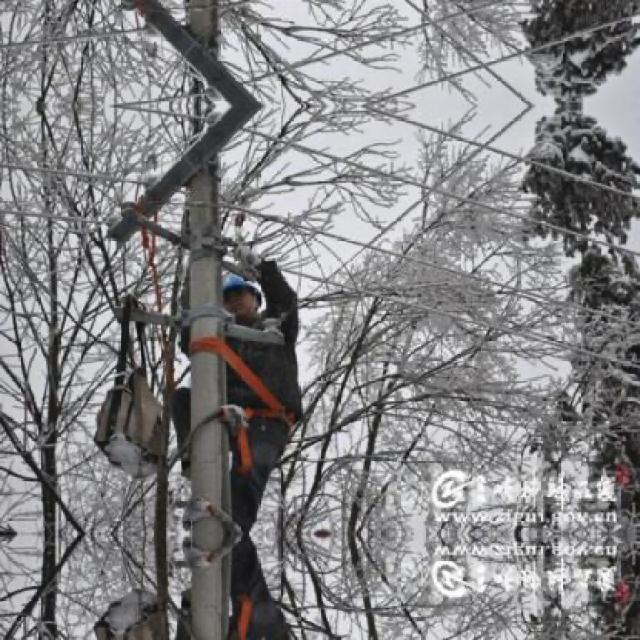helmet: (219, 271, 263, 320)
